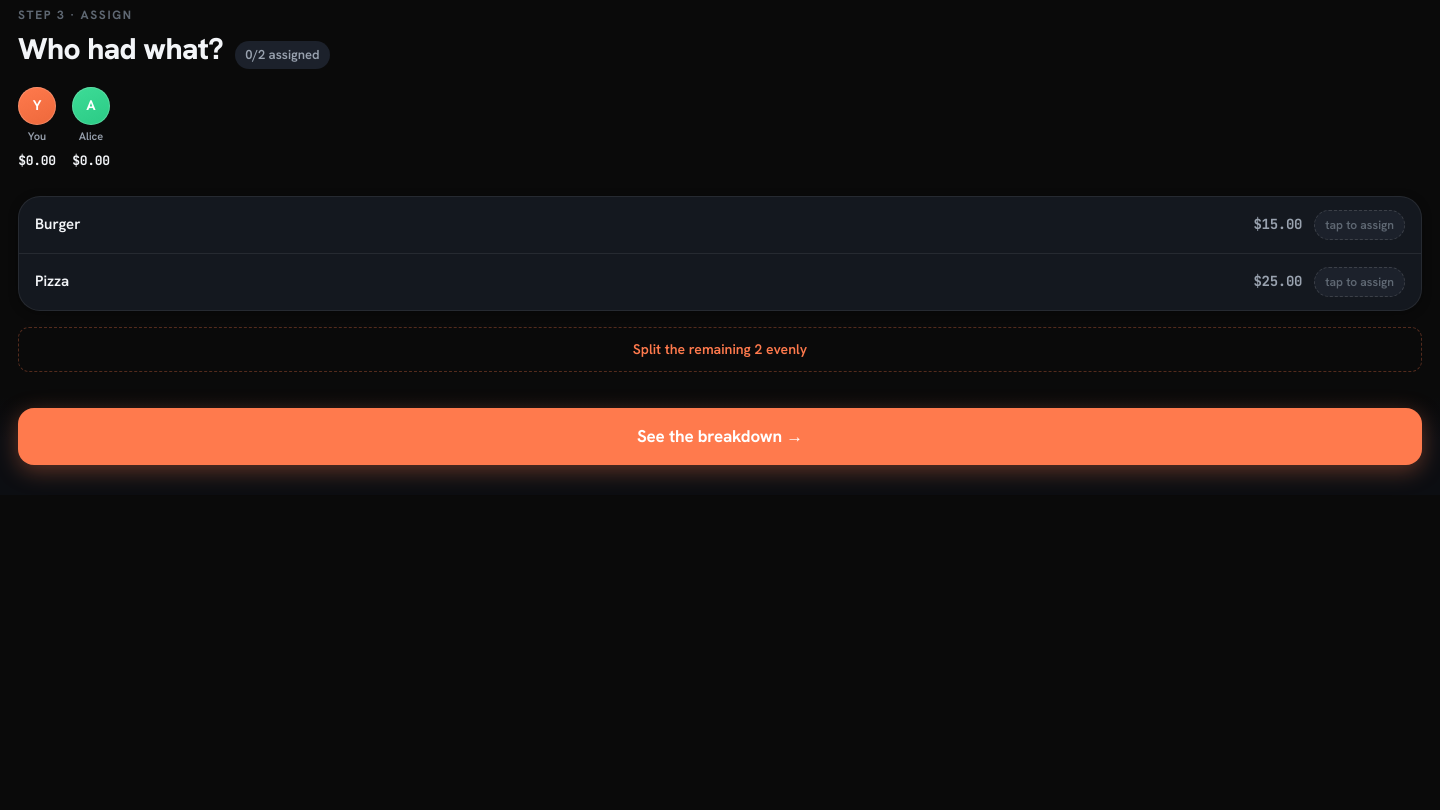
Test: <AssignScreen /> — AssignSheet › clicking the scrim closes the sheet
This screenshot has width=1440, height=810.
Click the button "assign burger": click(58, 224) top-left (19, 196), bottom-right (1421, 254)
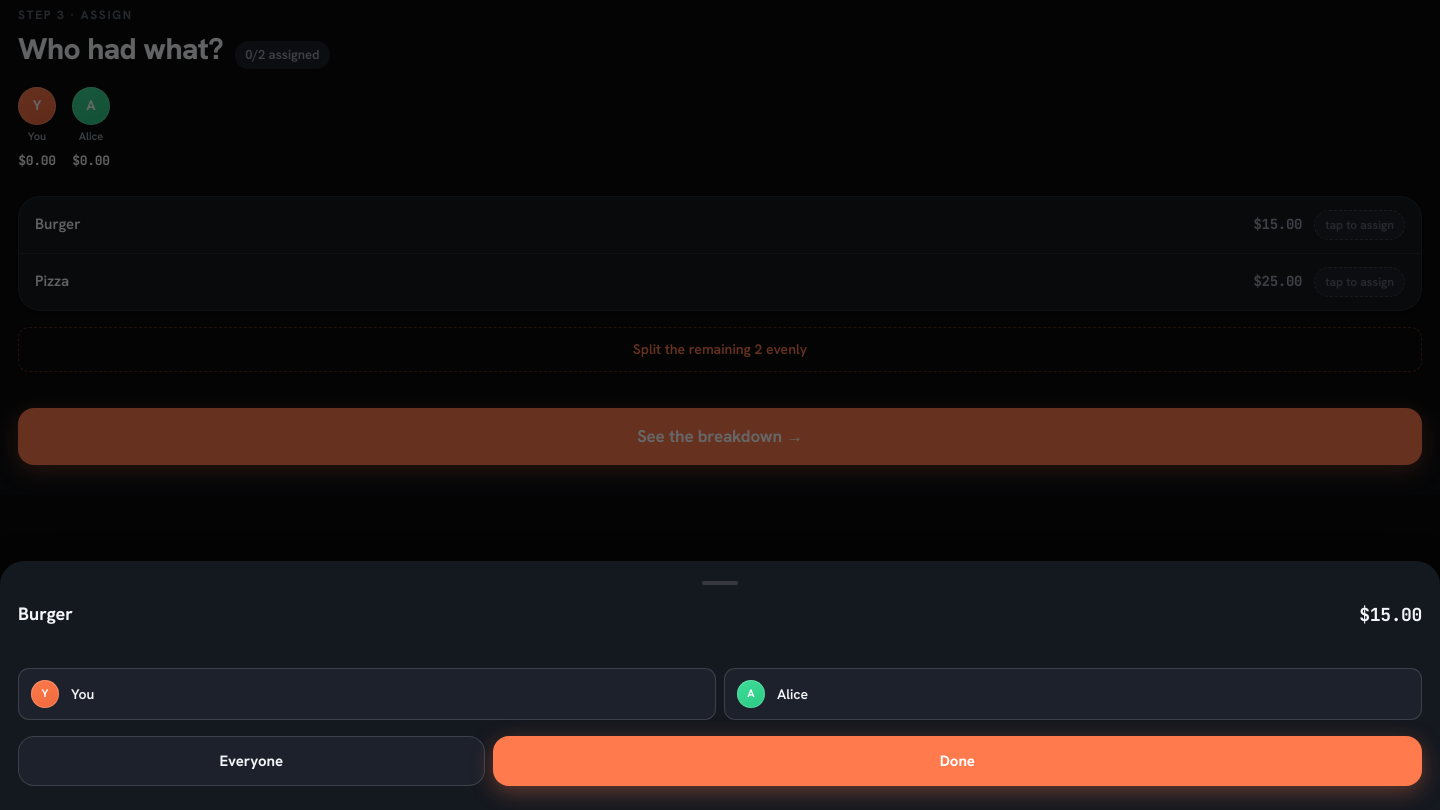
Click the element with test id "assign-scrim": click(720, 405) top-left (0, 0), bottom-right (1439, 809)
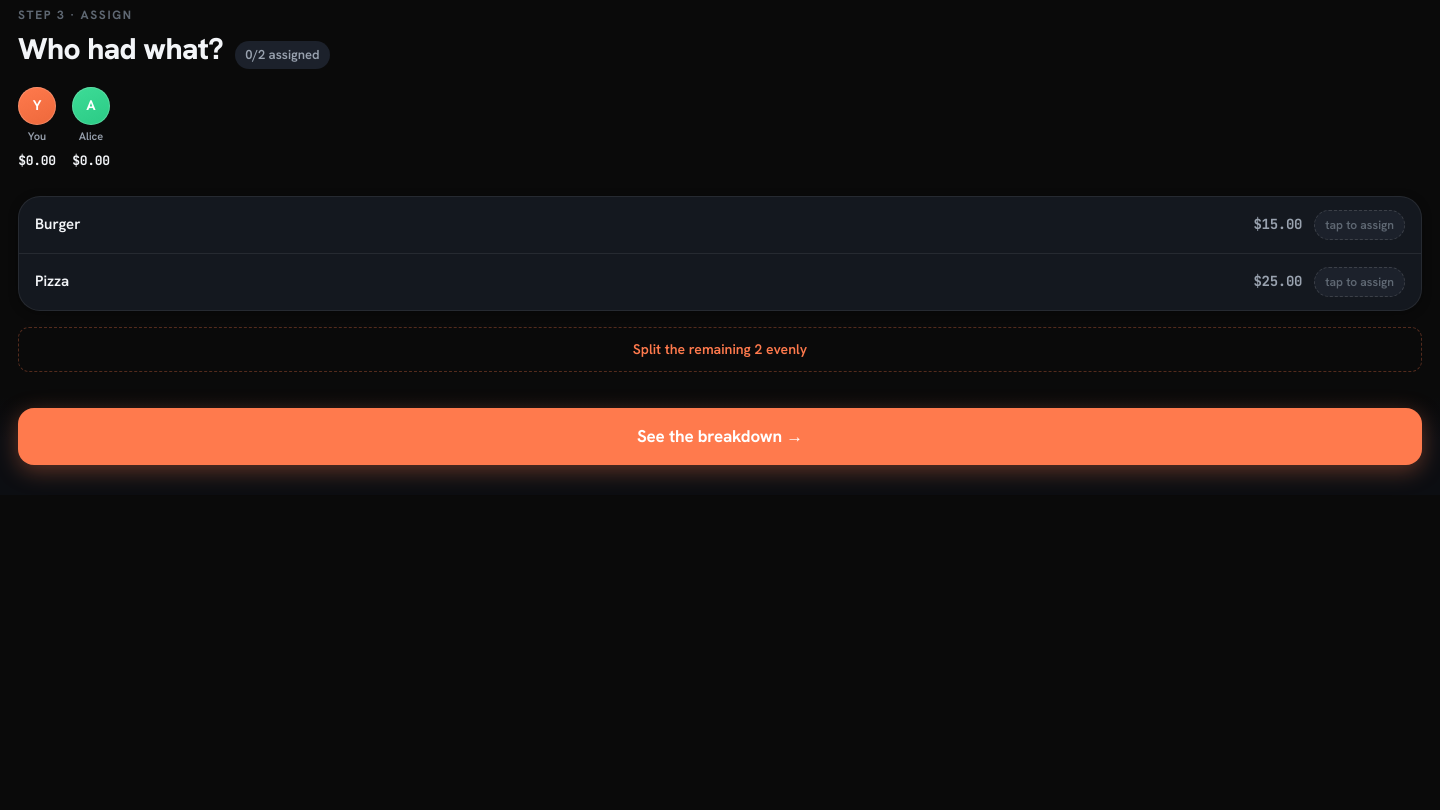
Now the dialog is gone
